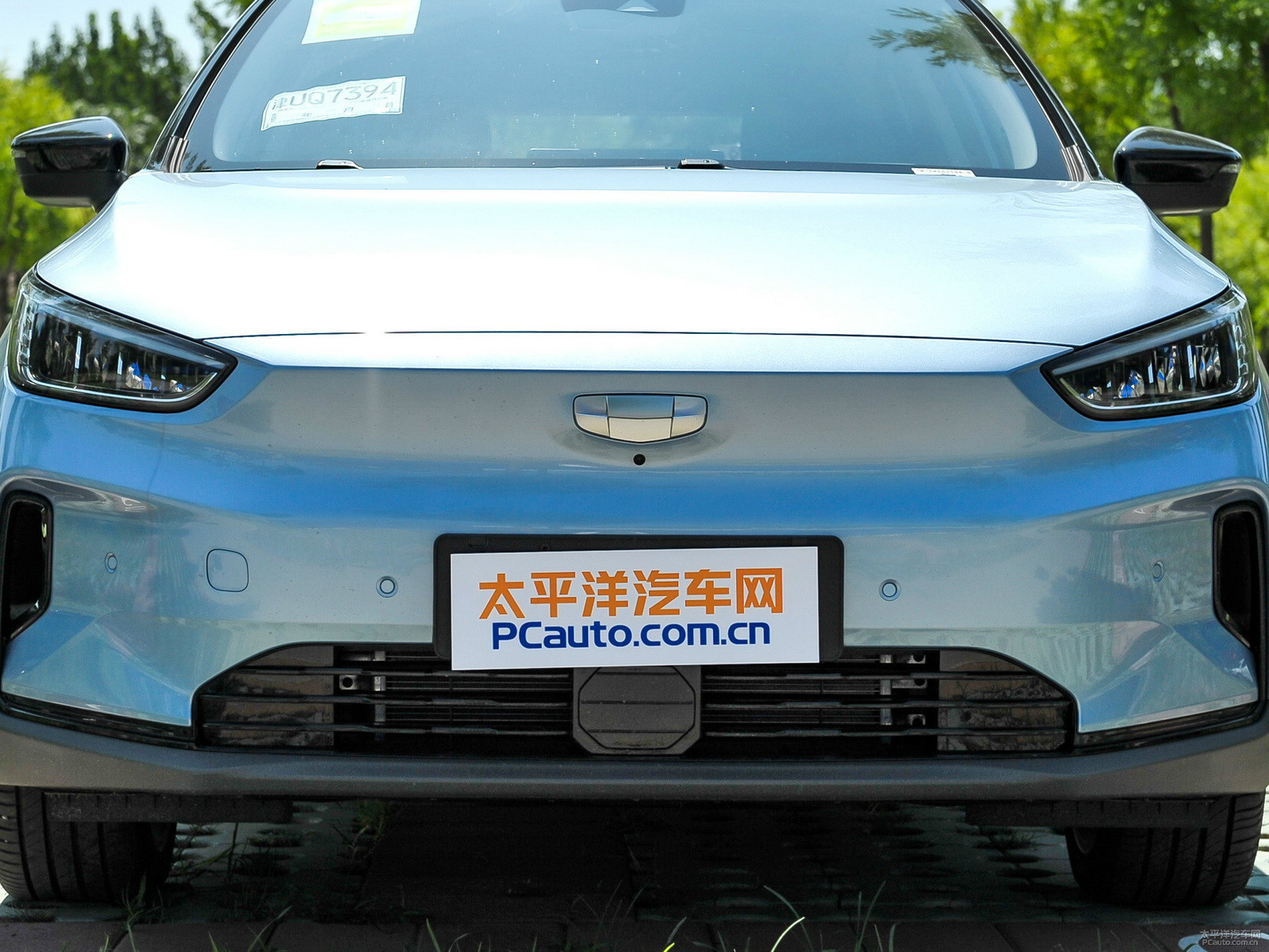GEOMETRY: (574, 396, 707, 442)
